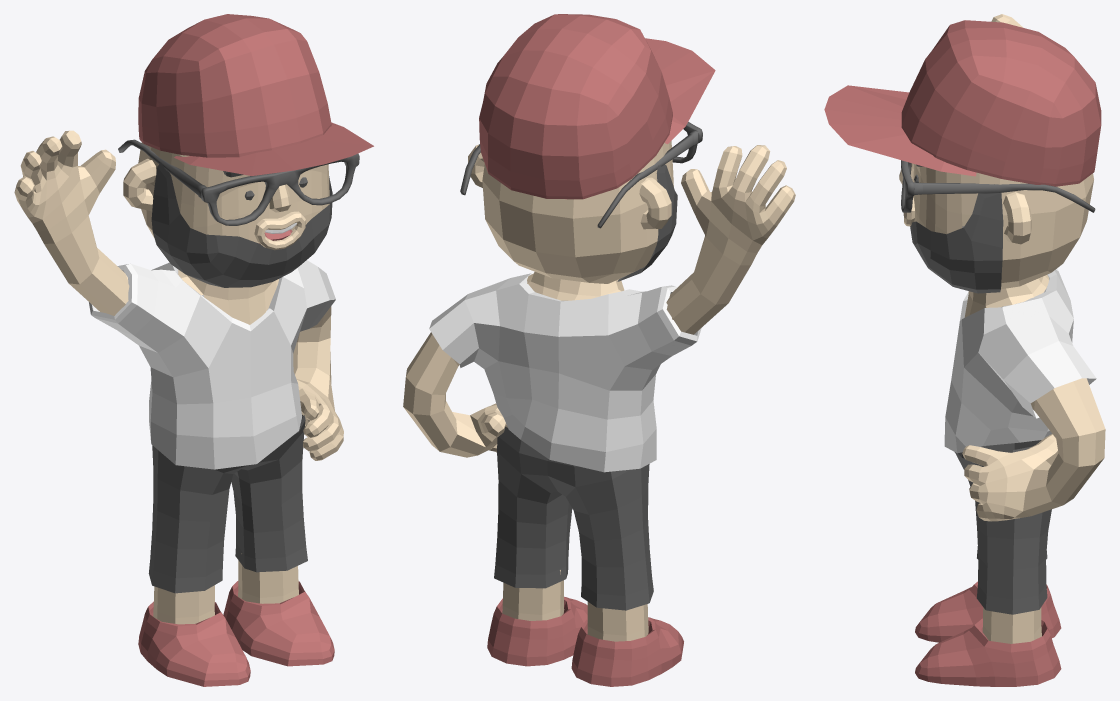
File: full.glb
The picture shows the model from 3 angles, left to right: view 1: azimuth 30°, elevation 25°; view 2: azimuth 150°, elevation 25°; view 3: azimuth 270°, elevation 25°; orthographic projection.
Visible parts, largest first — view 1: Full; view 2: Full; view 3: Full.
Part boxes in pixels (x1,y1,x2,y2): Full: (14, 14, 373, 686); Full: (403, 14, 795, 686); Full: (824, 14, 1105, 686).
Size of the model in its own units: 47.81 by 81.28 by 33.44.
